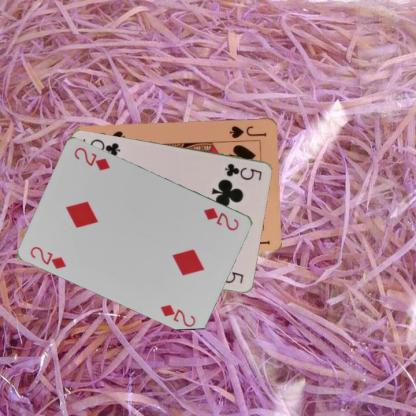2d: (27, 244, 68, 271), (201, 204, 240, 232)
5c: (223, 160, 264, 182)
Js: (227, 122, 268, 140)
